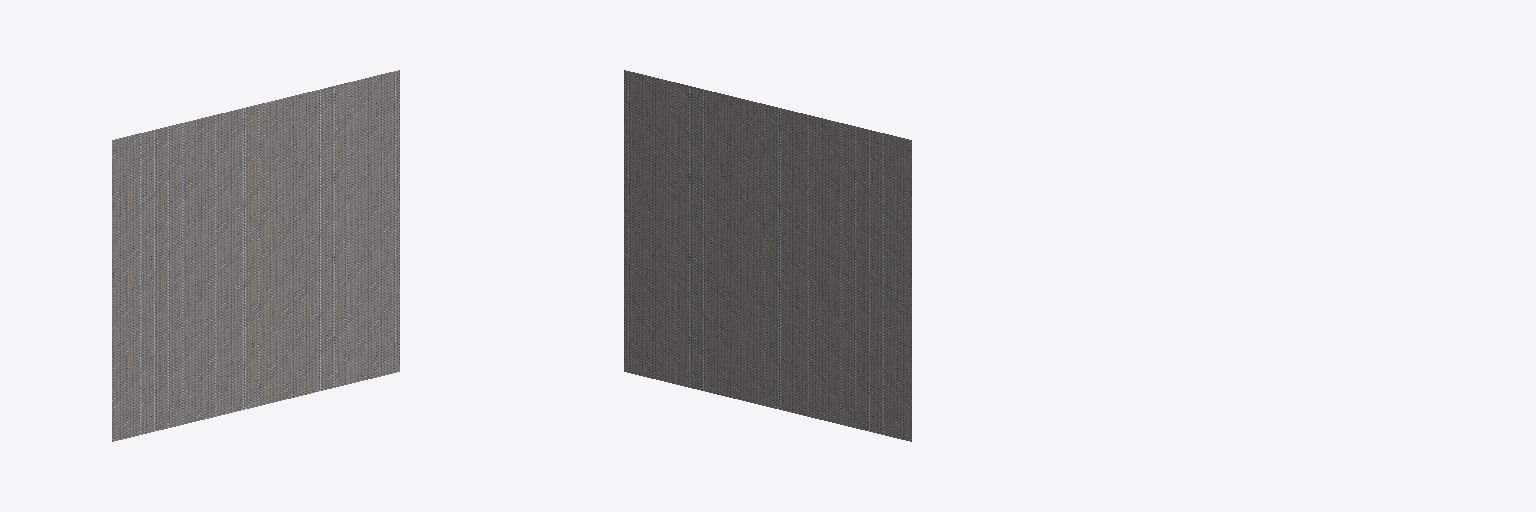
3 renders of one model, left to right at view 1: azimuth 30°, elevation 25°; view 2: azimuth 150°, elevation 25°; view 3: azimuth 270°, elevation 25°, orthographic.
Visible parts, largest first — view 1: Plane; view 2: Plane; view 3: none.
Boxes of the visible parts, x1=… form: Plane: x1=112, y1=70, x2=399, y2=441; Plane: x1=624, y1=70, x2=911, y2=441.
Bounding box in the file's own units: 400 × 400 × 0.
Materials: 1 (1 with a texture image).